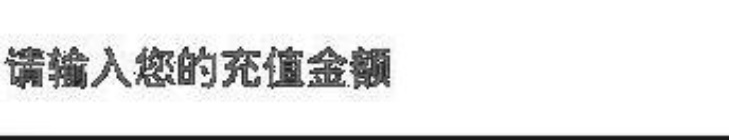EditText: (1, 1, 728, 139)
